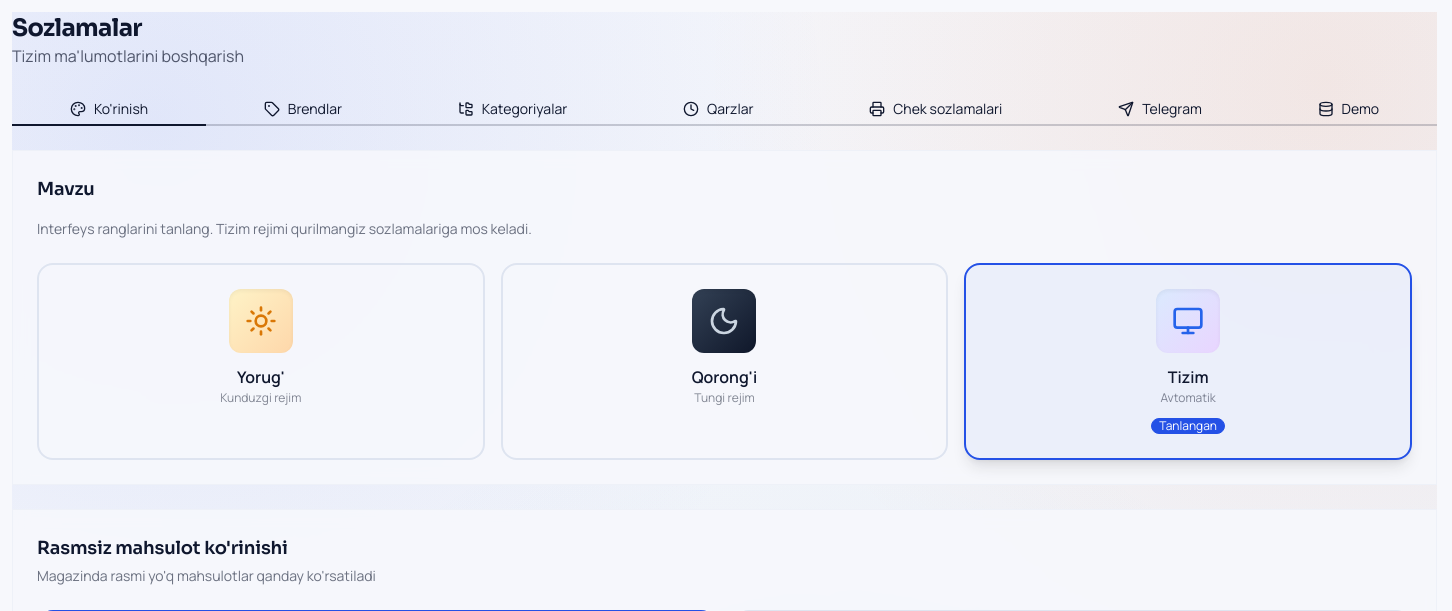
SettingsPage › demo ma'lumotlarni bir tugma bilan yaratadi va holatni yangilaydi
Click the button "Demo" at (1348, 110), box [1260, 94, 1437, 126]
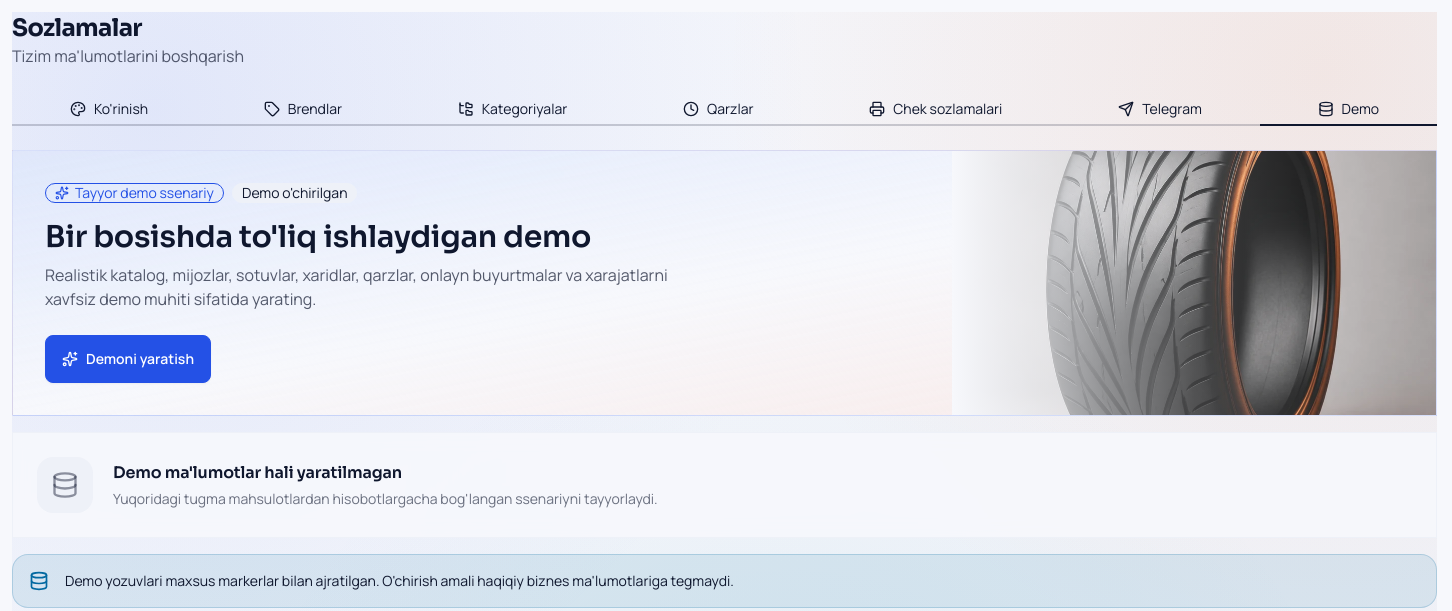
Expected: the heading "Demo ma'lumotlar hali yaratilmagan" is shown, [113, 462, 402, 483]
Click the button "Demoni yaratish" at (128, 359), box [45, 335, 211, 383]
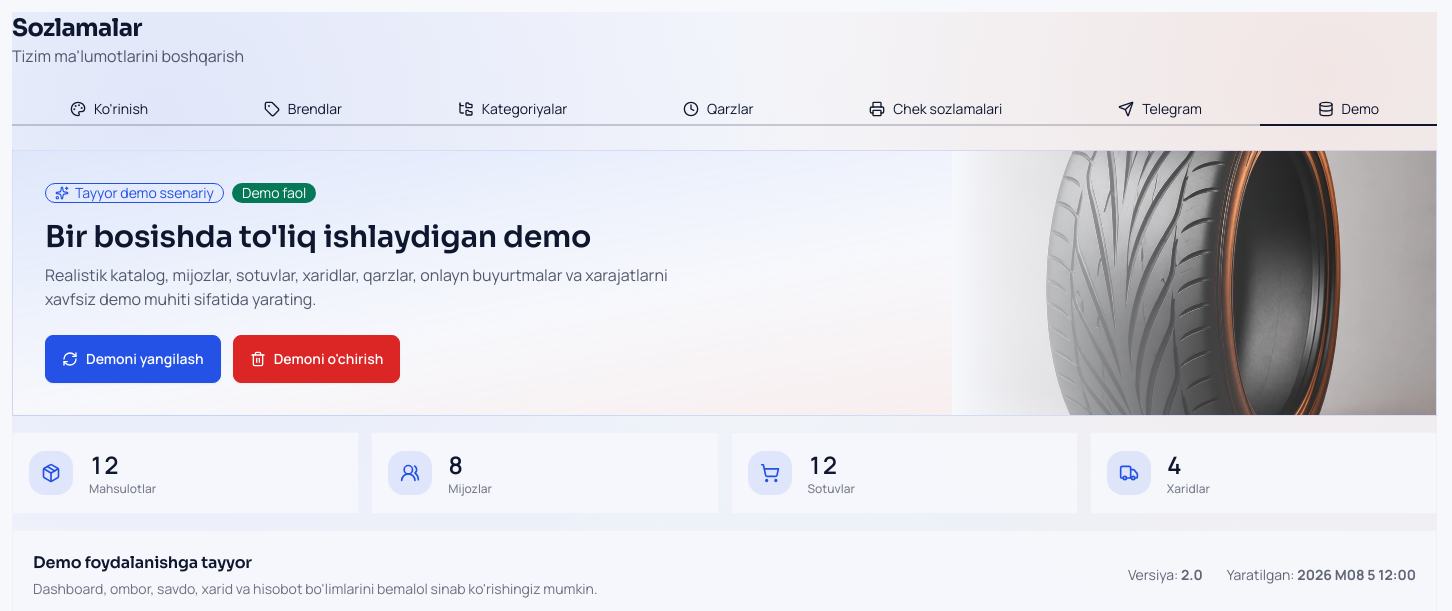
Expected: the heading "Demo foydalanishga tayyor" is shown, [33, 552, 252, 573]
Expected: the text "12" is shown 2 times, [89, 448, 119, 481]; [808, 448, 837, 481]
